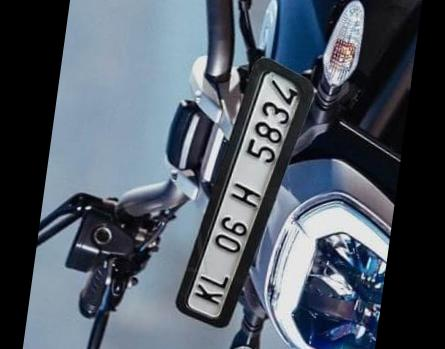plate: (165, 37, 315, 339)
